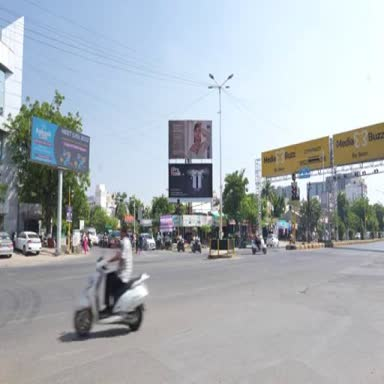Car: (14, 232, 41, 254), (0, 232, 14, 258), (141, 233, 155, 250), (108, 231, 120, 248), (267, 234, 278, 246)
